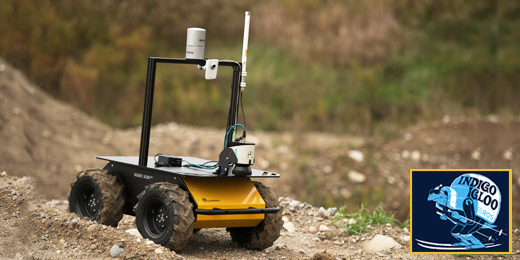husky: (67, 155, 282, 251)
